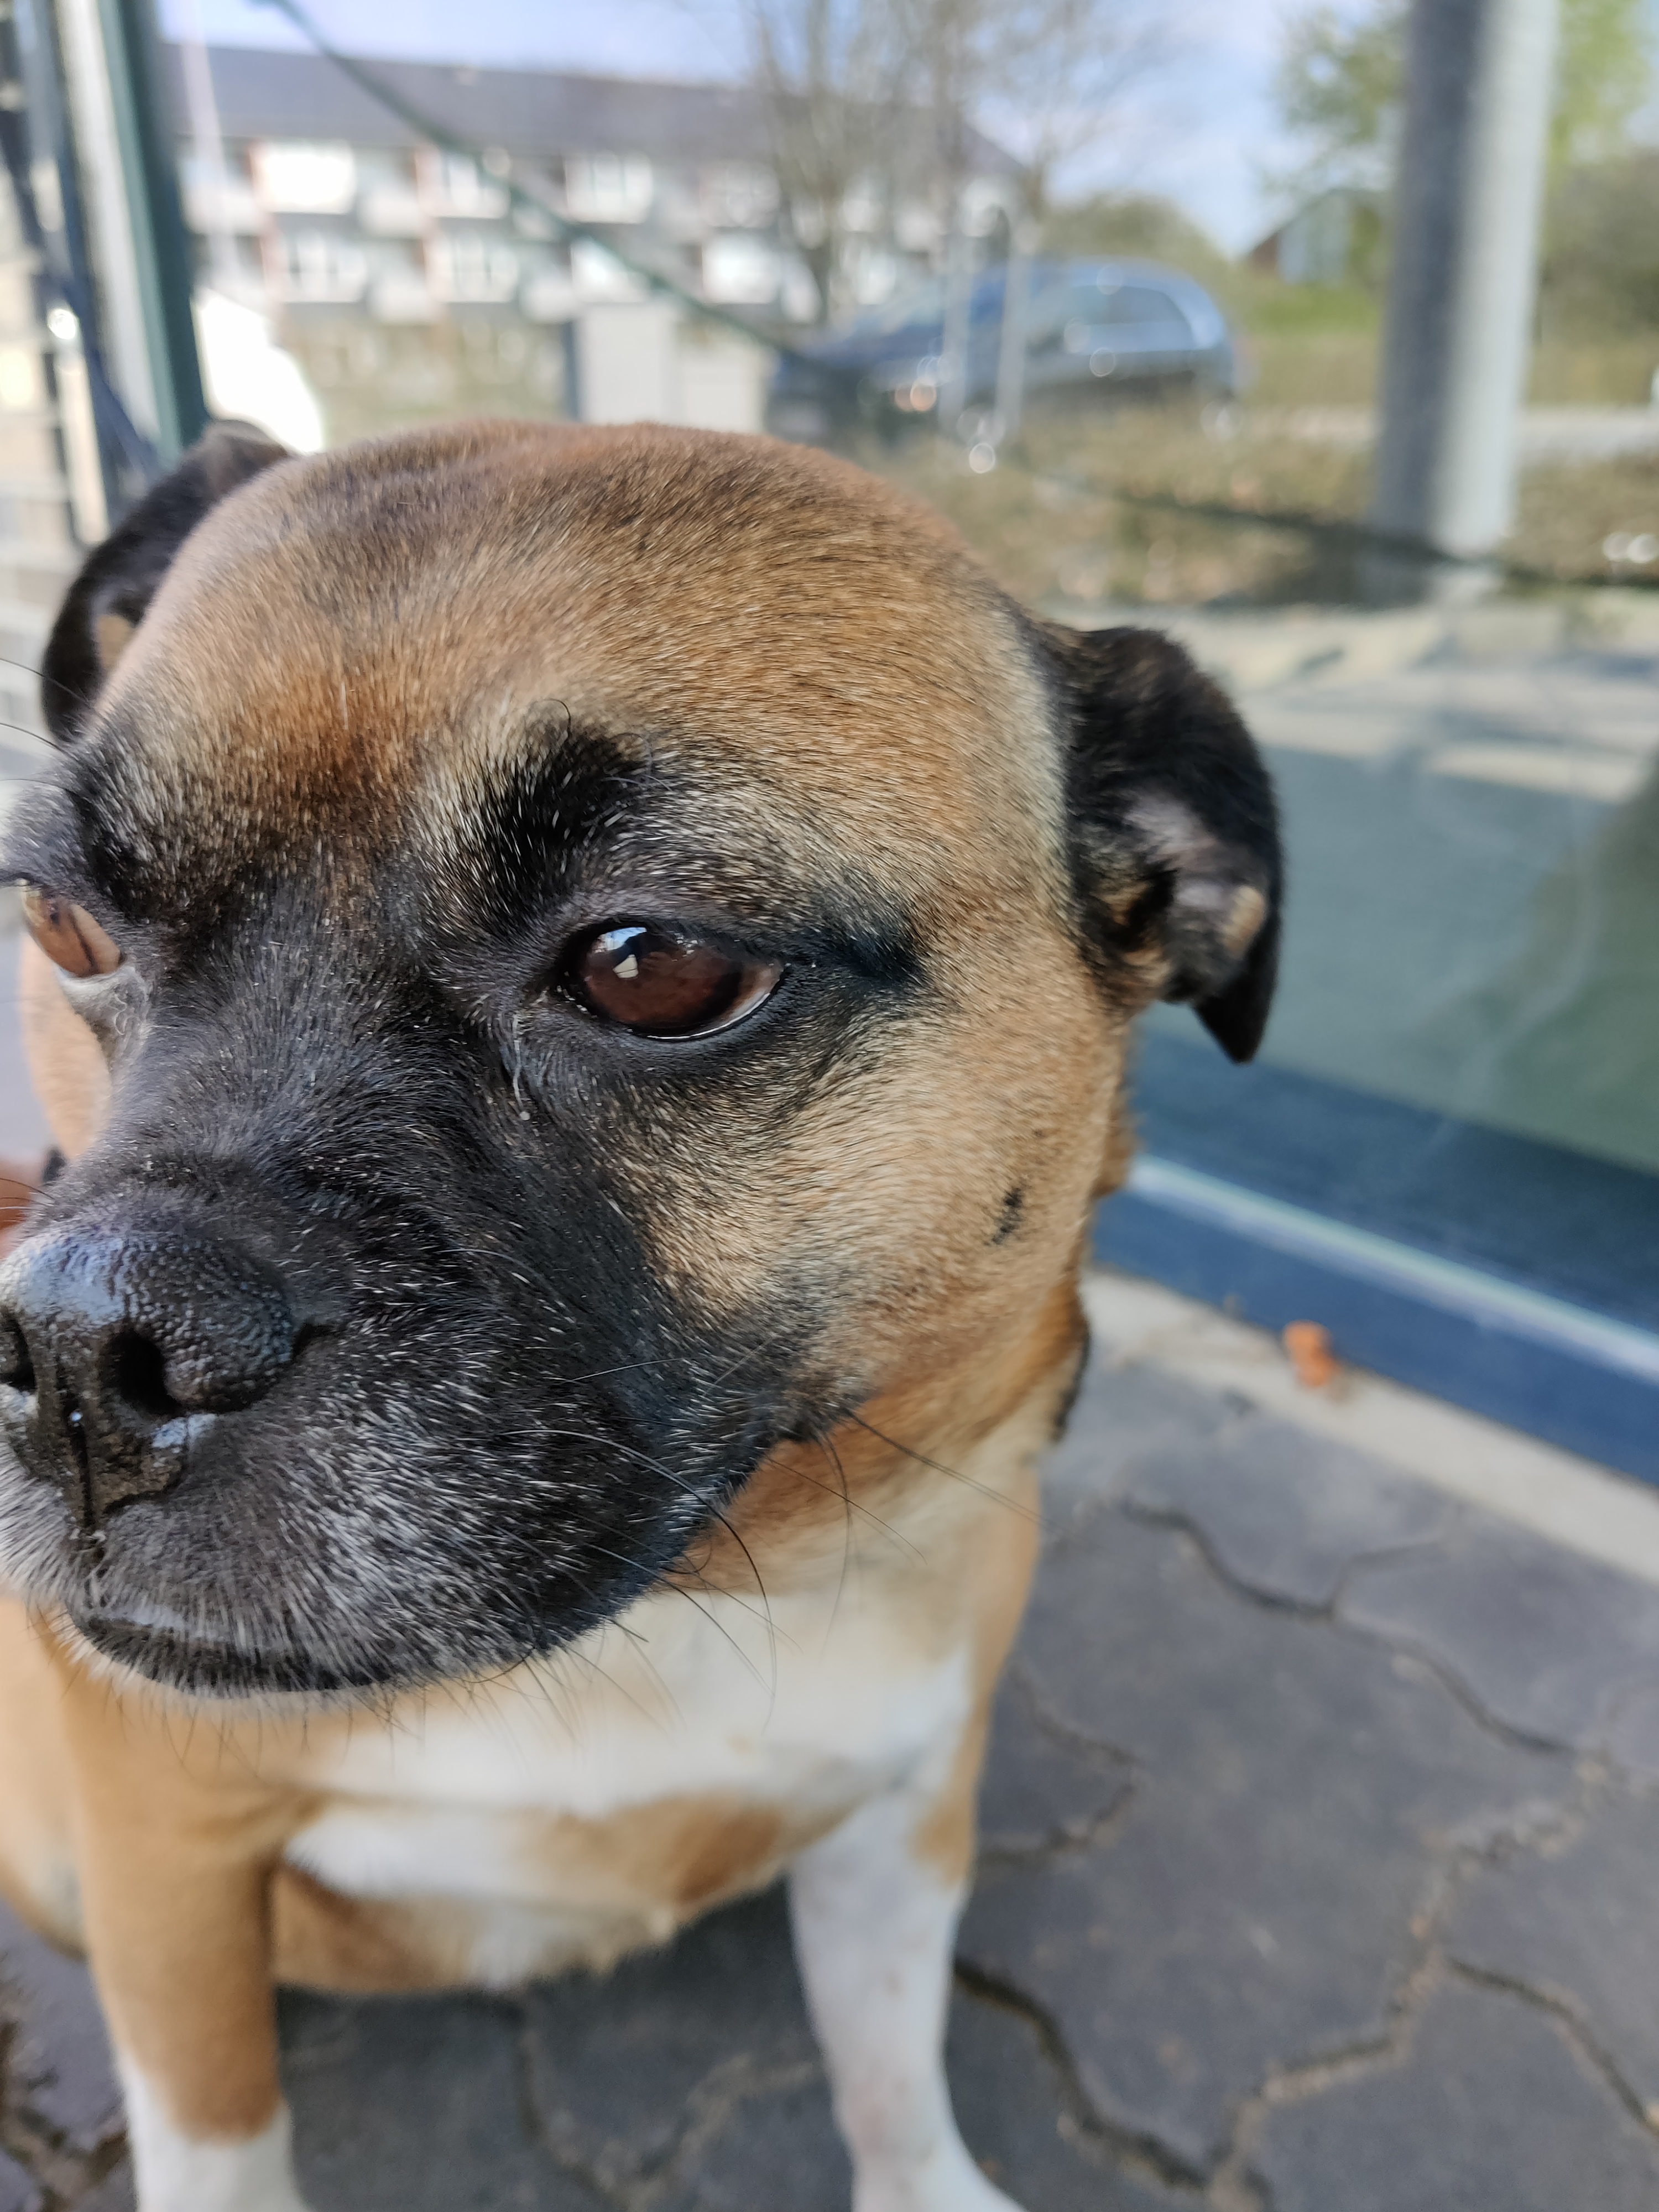Dog: (0, 392, 1310, 2212)
